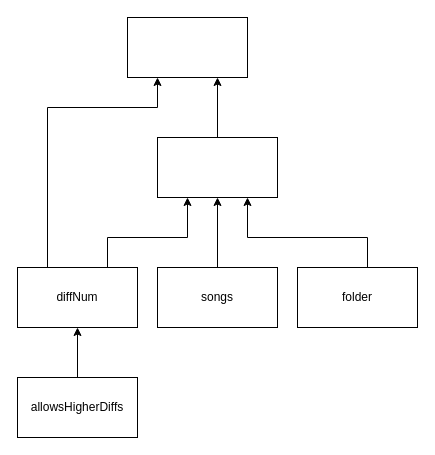
Image size: 435x455. Some labels were removed from this diagram. The box of each missing label's shape, as (x1, y1, x2, y2) in pixels:
diffClass: (156, 136, 278, 198)
Song Selection: (126, 16, 248, 78)
